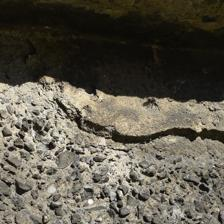Crack: (32, 49, 191, 99)
